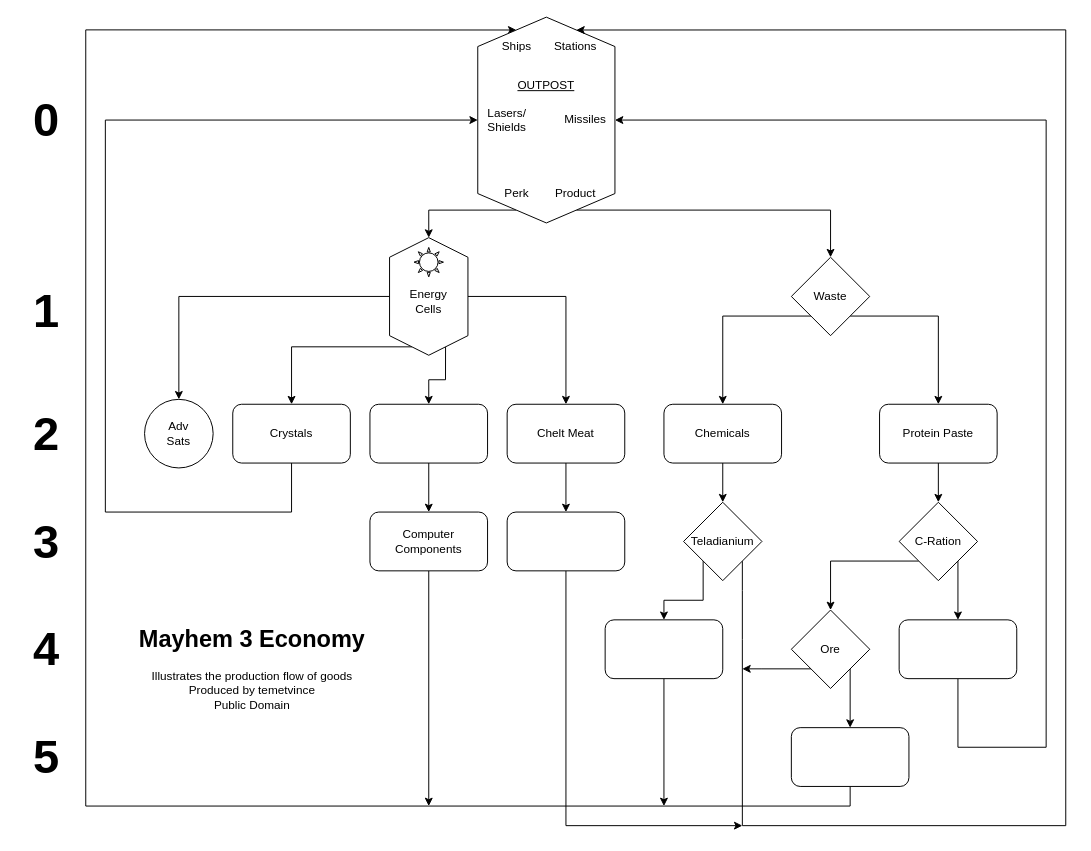
Some shapes in this 1091 by 851 pixel diagram are drawn without their labels. The centre of each missing label's shape, as x and y in pixels:
Hull Plating: point (663, 649)
Microchips: point (428, 433)
Quantum Tubes: point (849, 756)
Rastar Oil: point (565, 541)
Silicon: point (957, 649)
